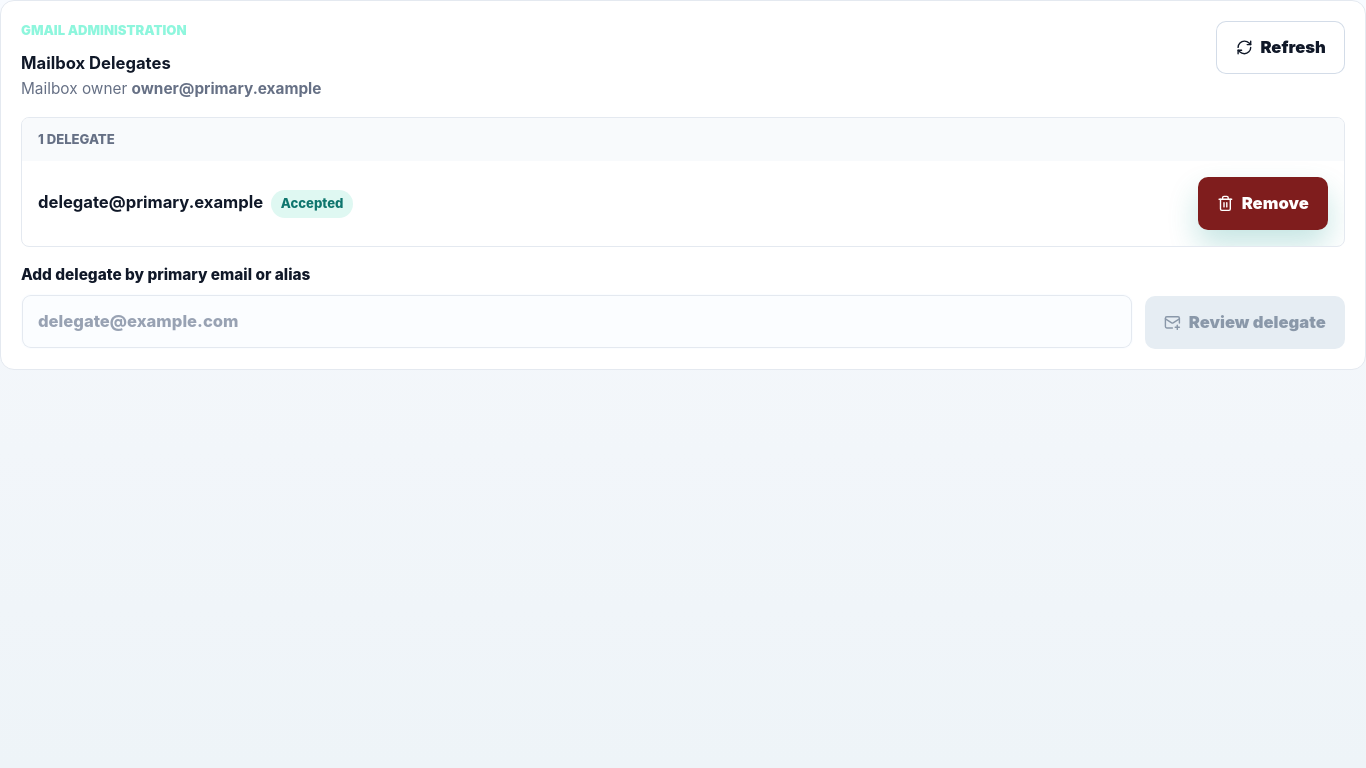
Test: MailboxDelegates › reconciles a timed-out delete when the delegate is absent
Check: the text "delegate@primary.example" is shown, box [38,190,263,218]
Click the button "Remove". click: (1263, 204)
box: [1198,177,1328,230]
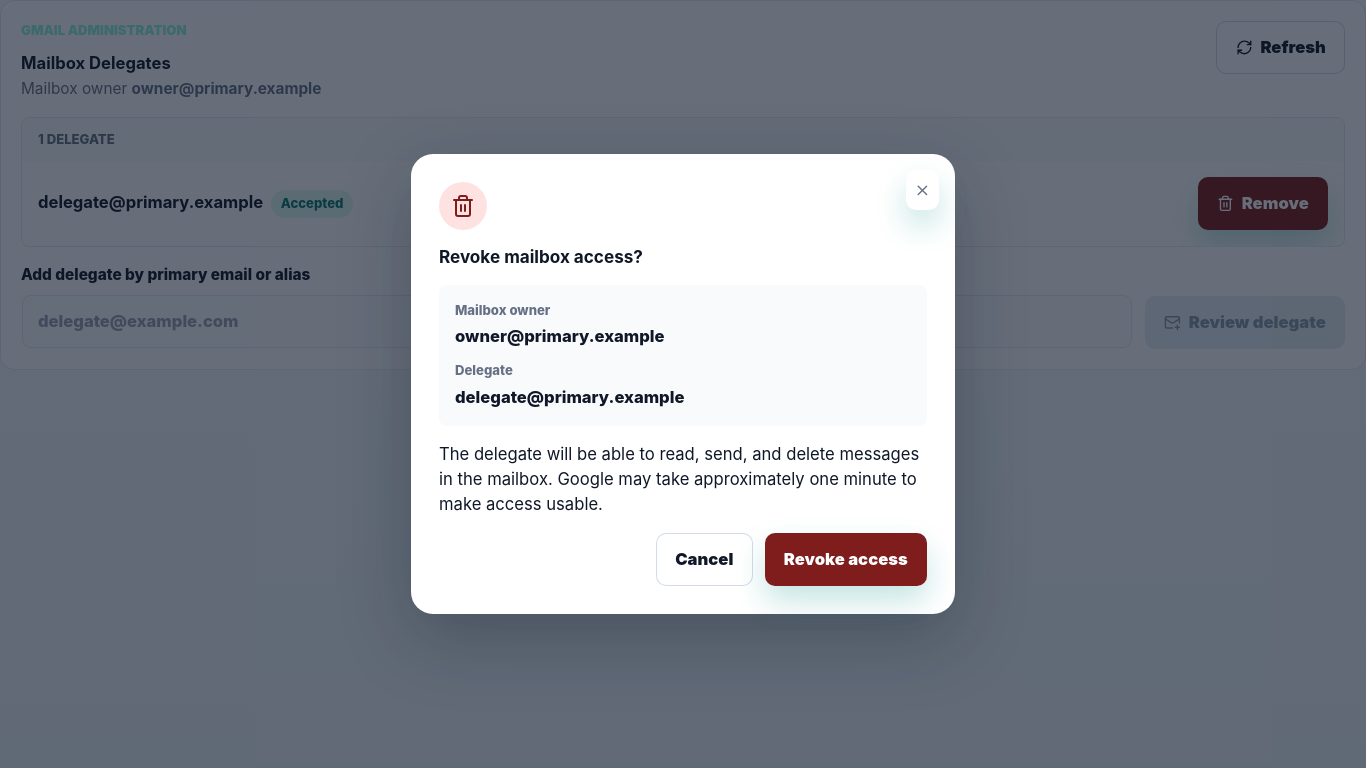
Click the button "Revoke access". click: (846, 559)
box: [764,533,927,586]
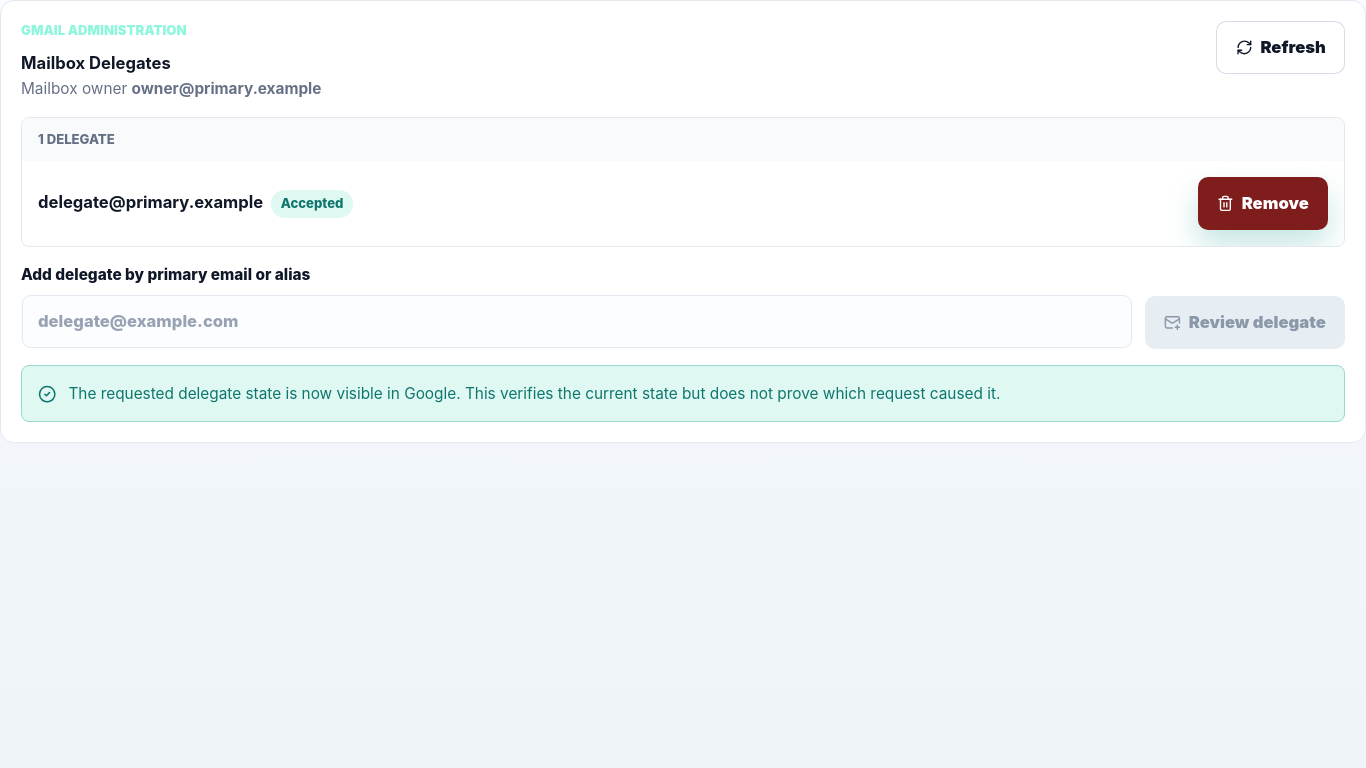
Check: the text "requested delegate state is now visible" is shown, box [68,384,1000,403]
